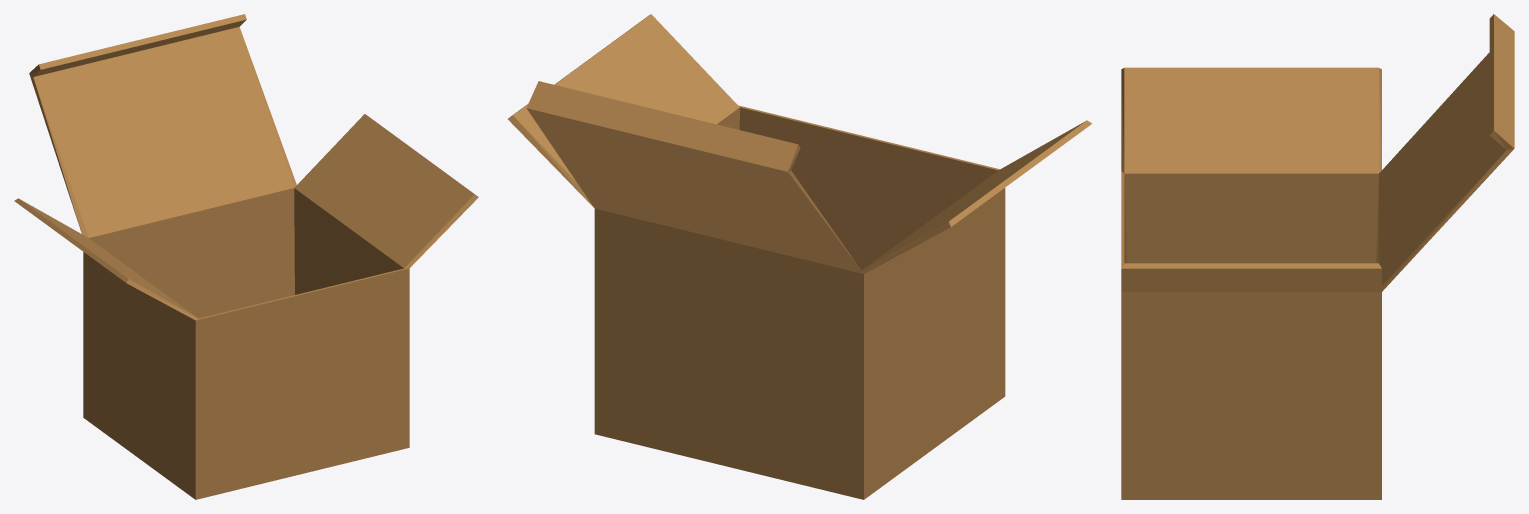
File: 02_prop_box.FBX
3 renders of one model, left to right at view 1: azimuth 30°, elevation 25°; view 2: azimuth 150°, elevation 25°; view 3: azimuth 270°, elevation 25°, orthographic. The views are drawn at different scales.
Parts seen in each view (by area): view 1: prop_box; view 2: prop_box; view 3: prop_box.
Part boxes in pixels (x1,y1,x2,y2): prop_box: (14, 14, 478, 499); prop_box: (508, 14, 1092, 499); prop_box: (1121, 14, 1514, 499).
Bounding box in the file's own units: 63.25 × 54.35 × 52.73.
